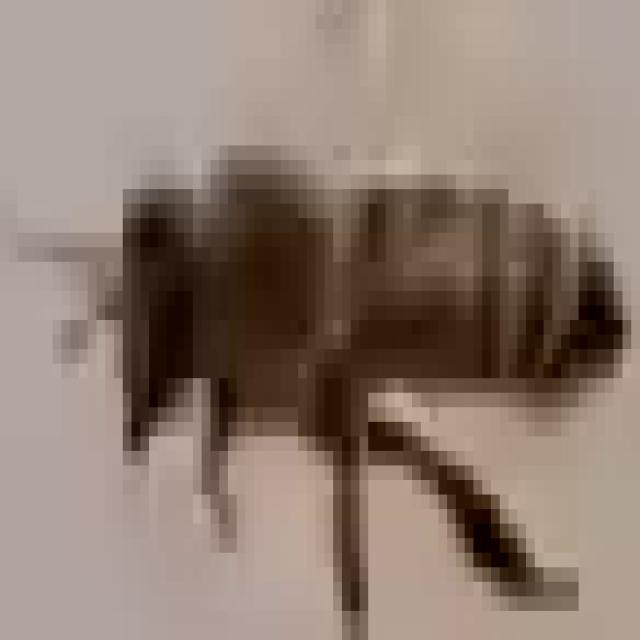honeybee: (90, 158, 629, 562)
